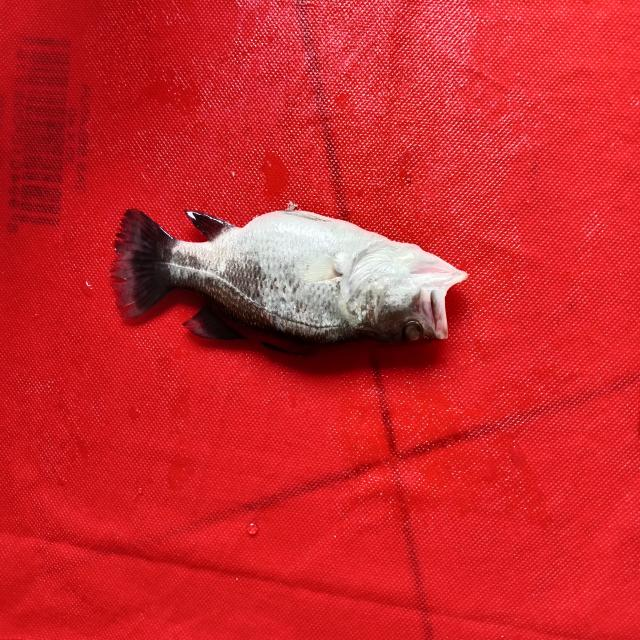ikan: (97, 181, 482, 373)
